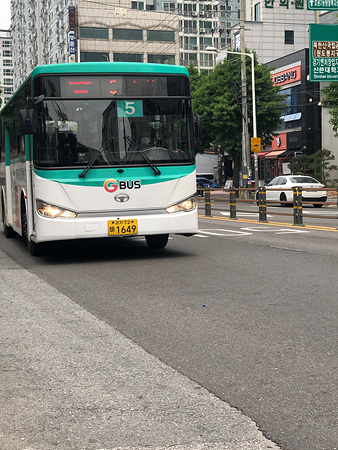bnum: (116, 99, 142, 116)
